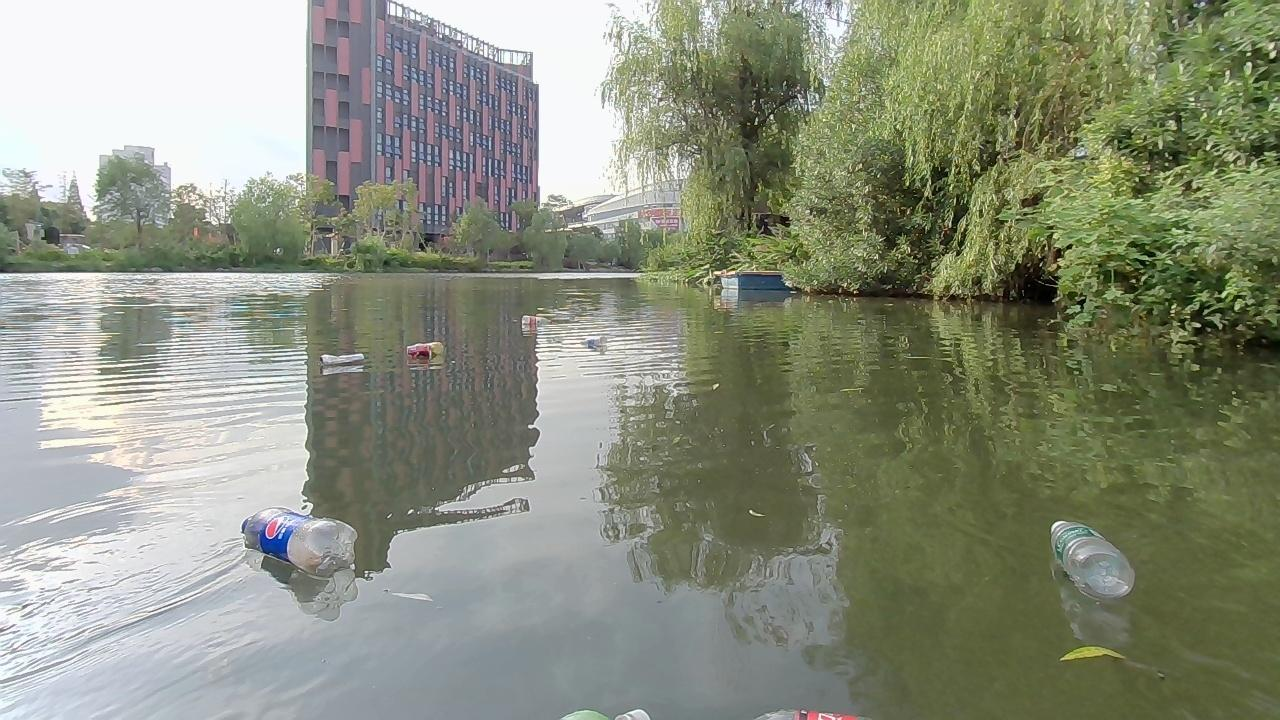bottle: (239, 500, 359, 579), (1046, 515, 1136, 602), (518, 310, 555, 335), (572, 331, 605, 352), (316, 351, 366, 364), (423, 338, 449, 358), (408, 341, 431, 359)
